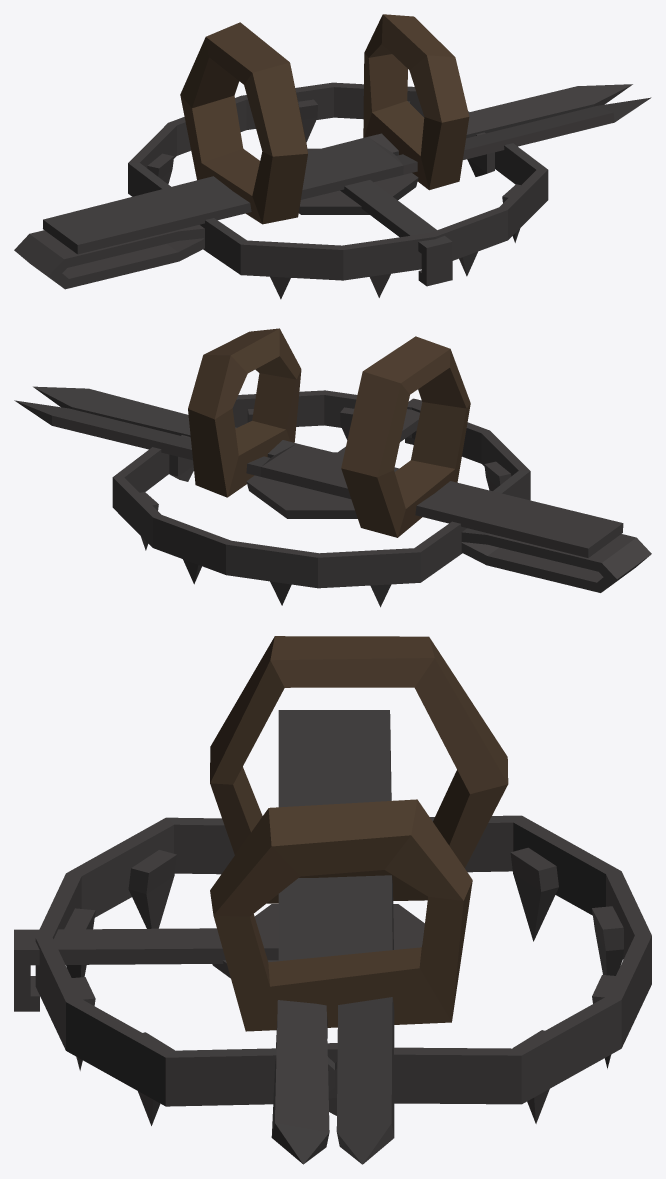
The model's file is SM_Shield_Orc.fbx.
3 views of the same model, one above another, from view 1: azimuth 30°, elevation 25°; view 2: azimuth 150°, elevation 25°; view 3: azimuth 270°, elevation 25° (orthographic). The views are drawn at different scales.
Parts seen in each view (by area): view 1: SM_Weapon_Shield_Orc; view 2: SM_Weapon_Shield_Orc; view 3: SM_Weapon_Shield_Orc.
Part boxes in pixels (x1,y1,x2,y2): SM_Weapon_Shield_Orc: (14, 14, 651, 299); SM_Weapon_Shield_Orc: (14, 328, 651, 607); SM_Weapon_Shield_Orc: (14, 636, 651, 1164).
Bounding box in the file's own units: 1.14 × 0.3608 × 0.6456.
